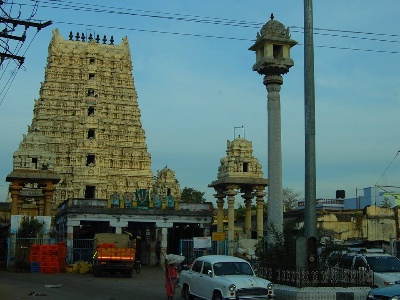gopura: (23, 23, 171, 204)
